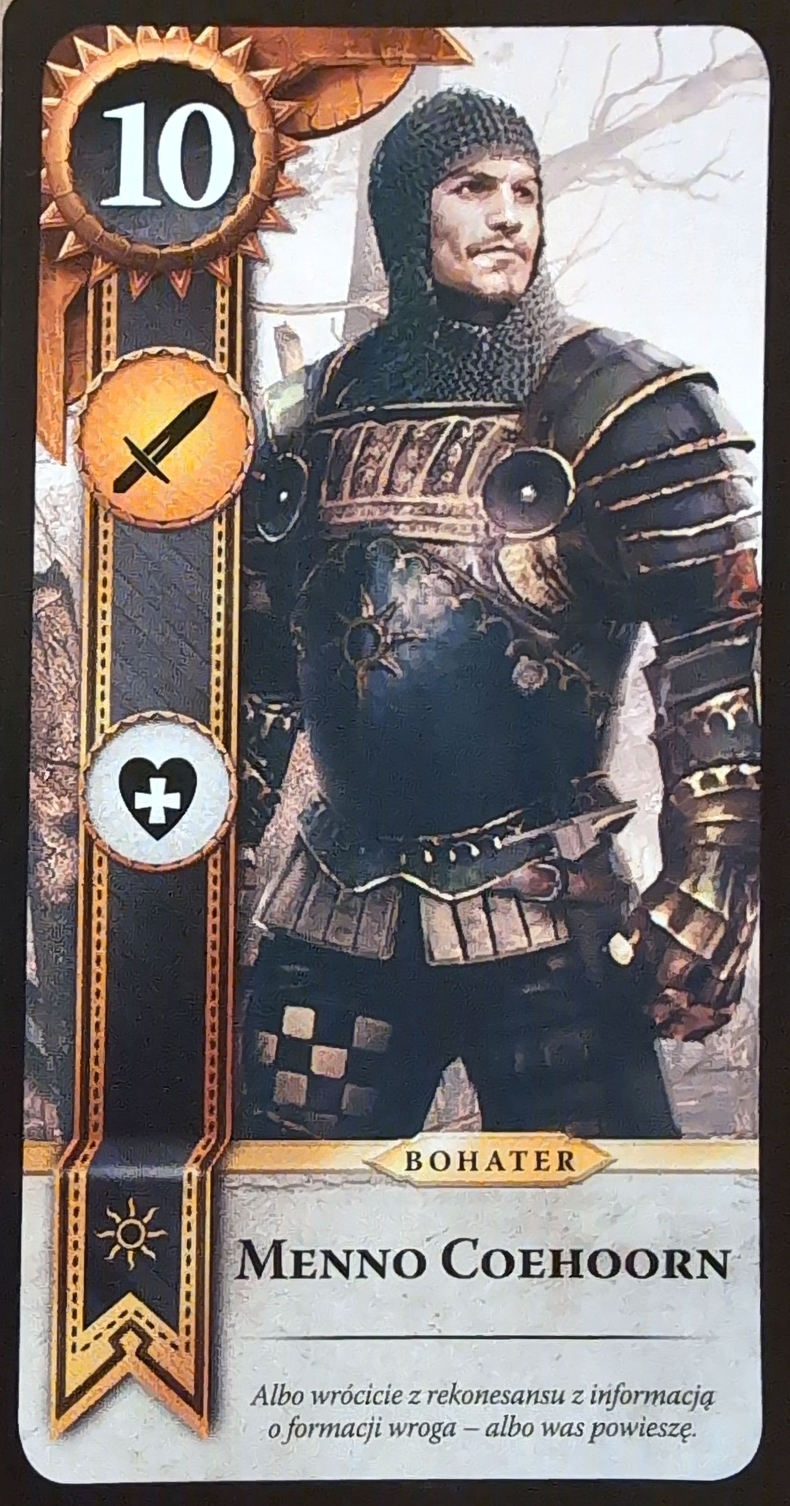10: (35, 21, 314, 298)
bohater: (370, 1132, 615, 1192)
miecz: (72, 348, 256, 534)
zmartwychwstanie: (80, 707, 241, 871)
